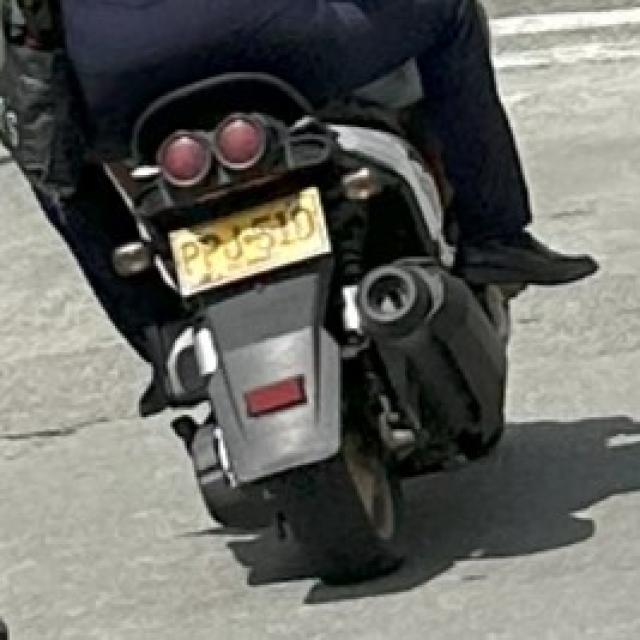number plate: (165, 185, 326, 292)
